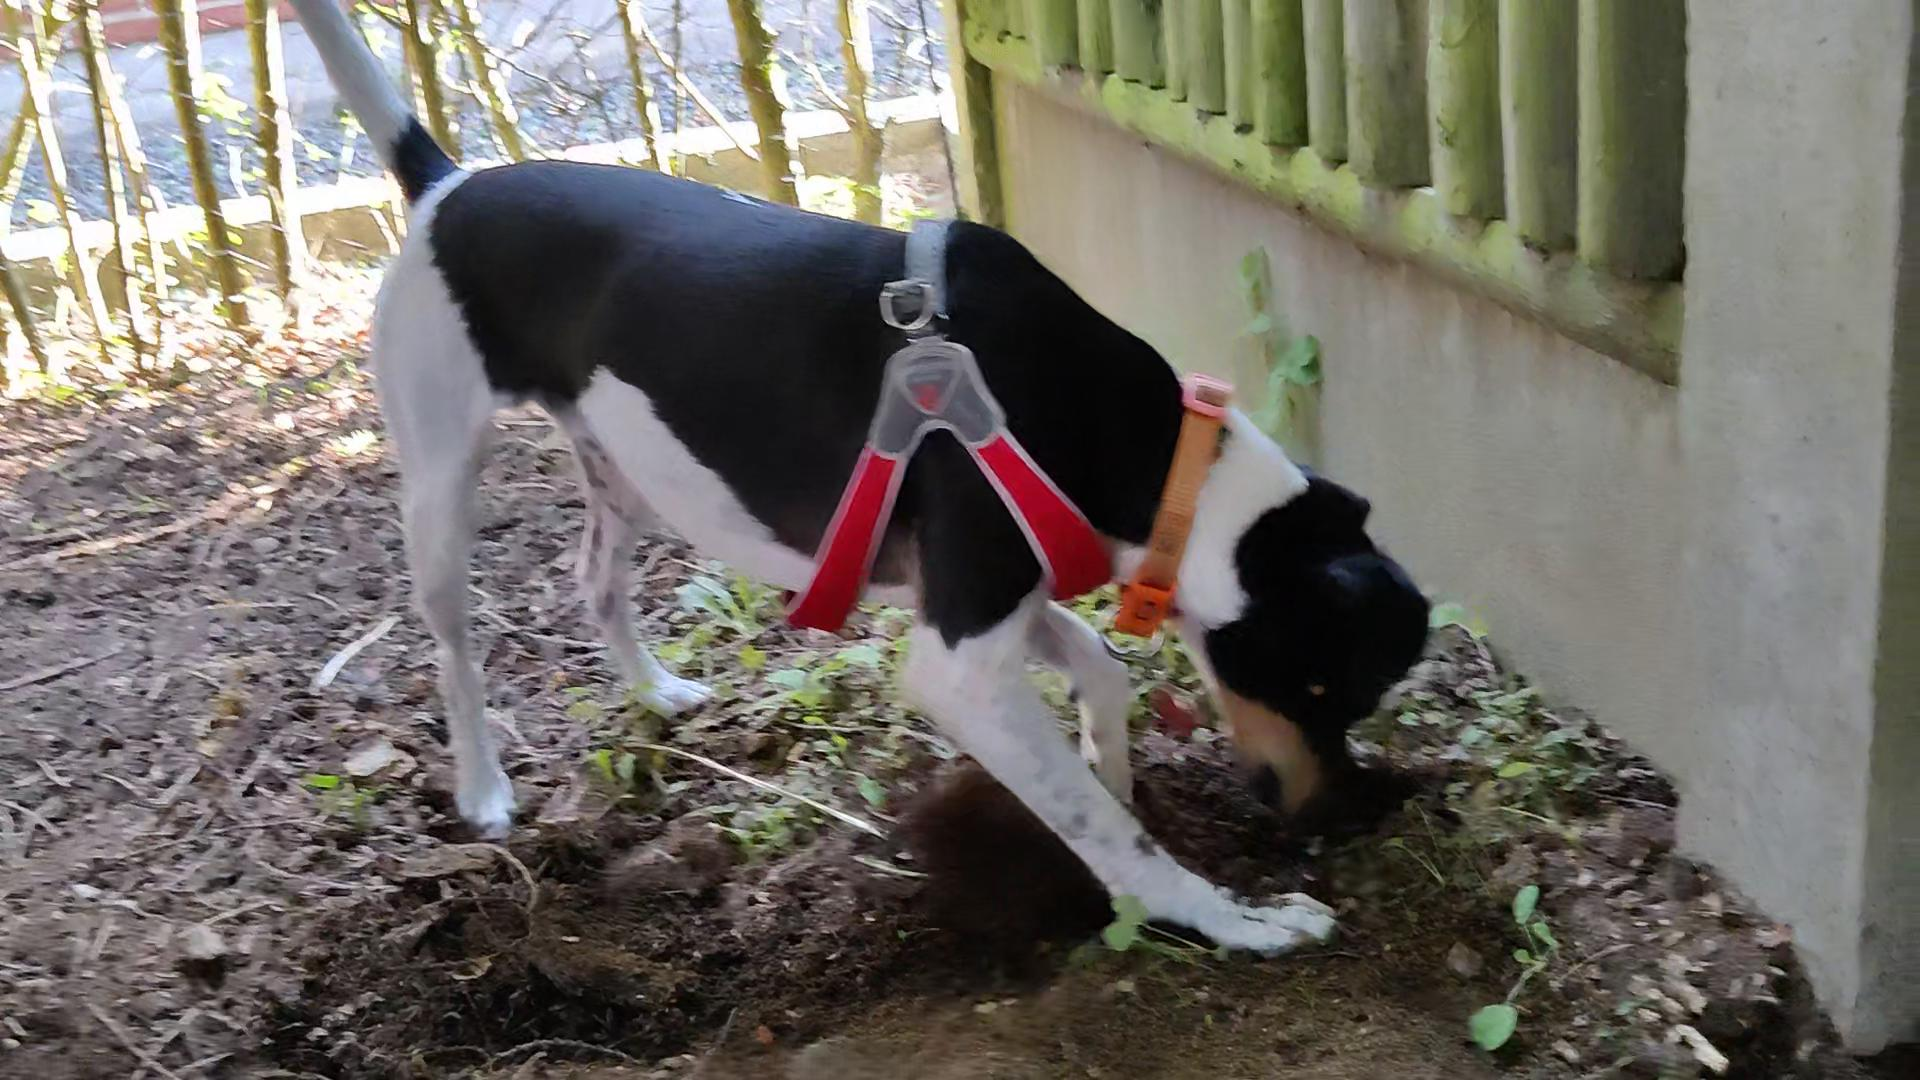Dog: (276, 0, 1451, 981), (1455, 938, 1460, 975)
